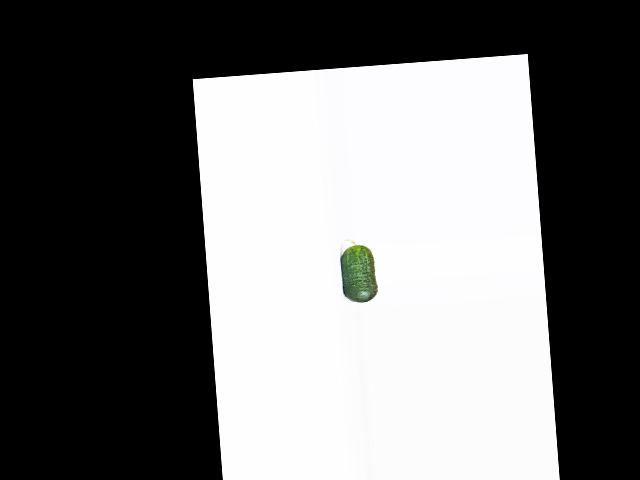cucumber: (338, 237, 379, 303)
